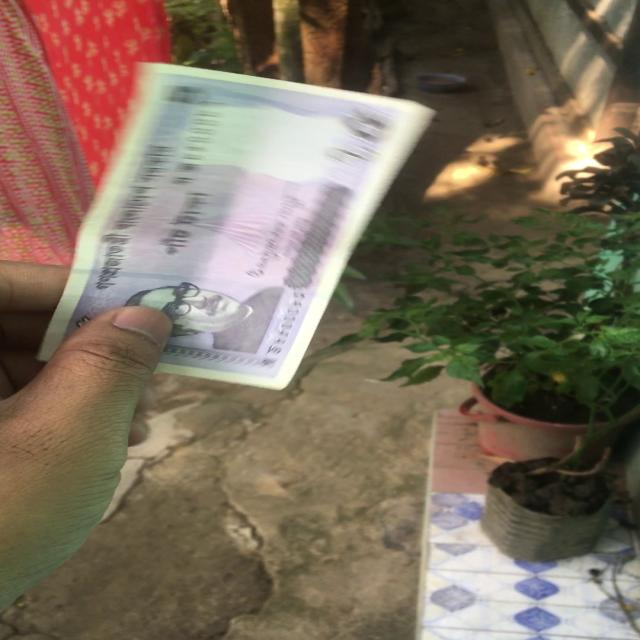Taka: (122, 58, 394, 394)
